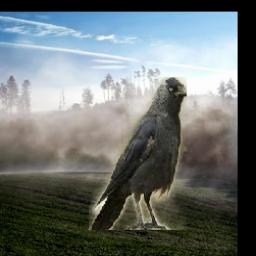Crow: (89, 78, 187, 231)
